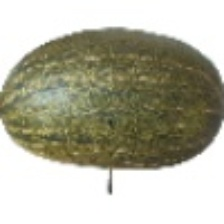honeydew: (46, 2, 196, 189)
